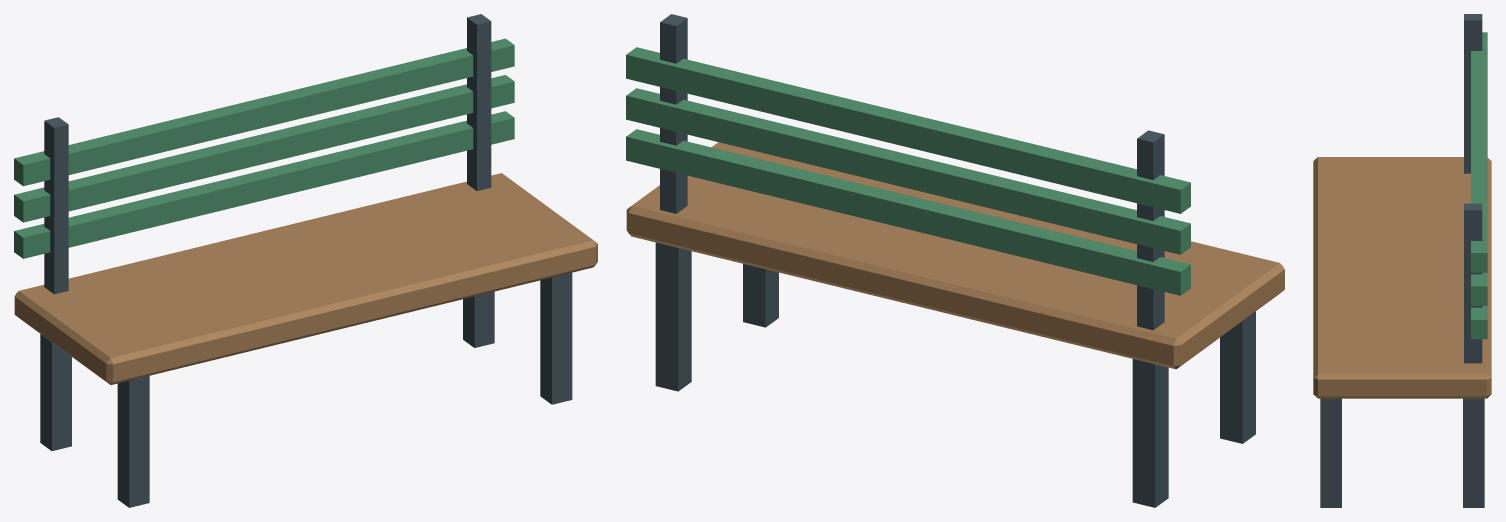
The model's file is station_bench.glb.
The picture shows the model from 3 angles, left to right: view 1: azimuth 30°, elevation 25°; view 2: azimuth 150°, elevation 25°; view 3: azimuth 270°, elevation 25°; orthographic projection. The views are drawn at different scales.
Visible parts, largest first — view 1: station_bench; view 2: station_bench; view 3: station_bench.
Boxes of the visible parts, left/top/right/bottom form: station_bench: left=14, top=14, right=597, bottom=507; station_bench: left=626, top=14, right=1284, bottom=507; station_bench: left=1313, top=14, right=1491, bottom=507.
Size of the model in its own units: 1.7 by 1.06 by 0.58.
